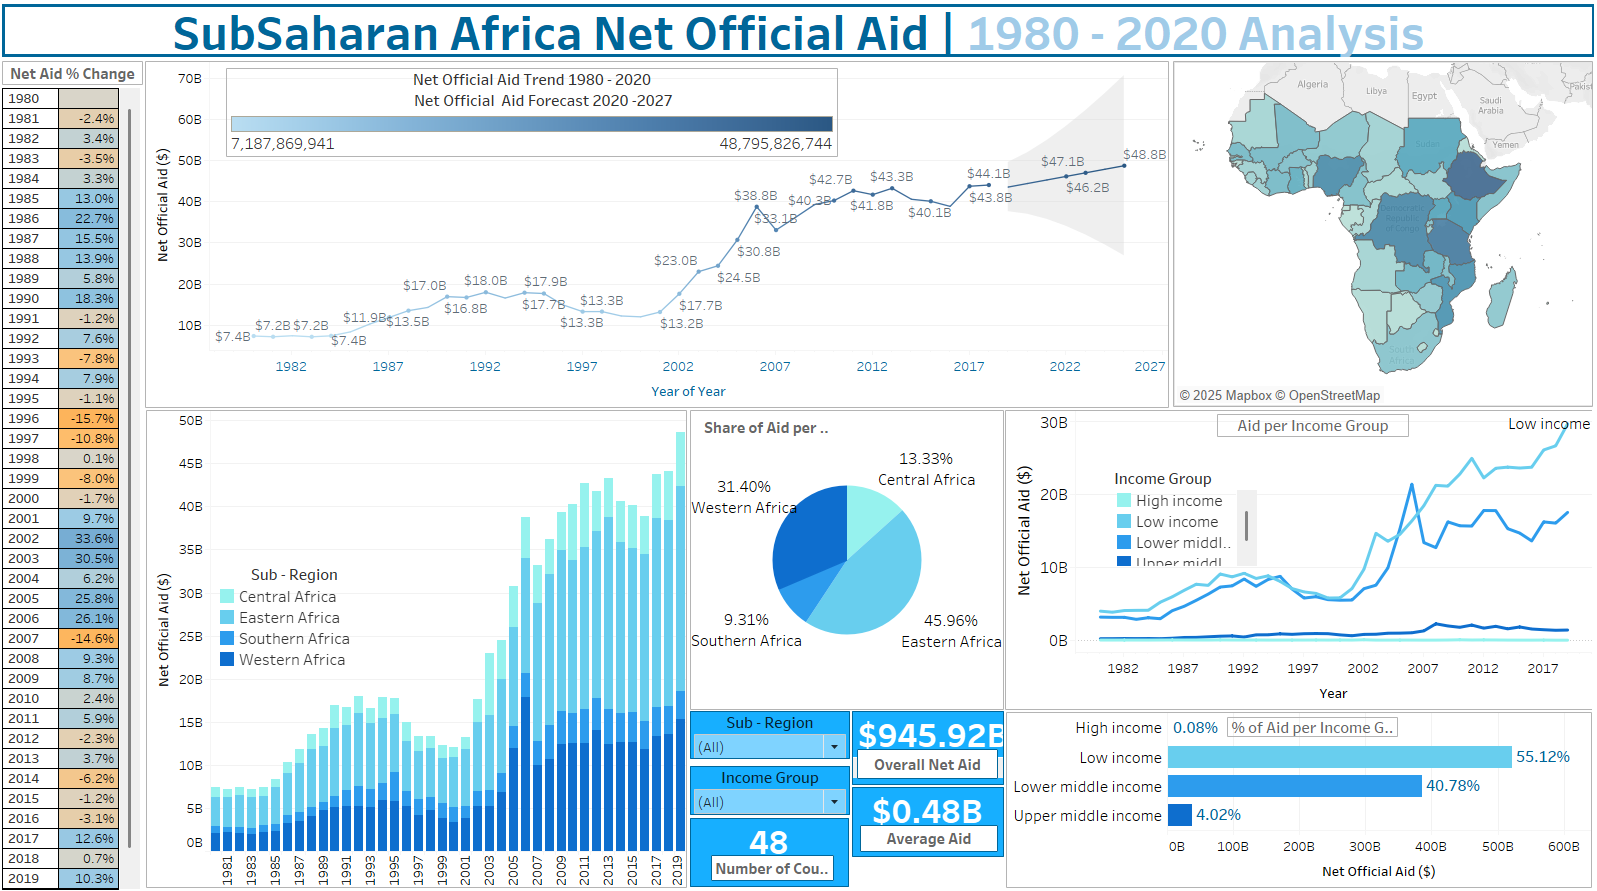

Layout of this report page (visuals, bound fields, positions):
{"tool":"tableau","page":{"name":"Aid Analysis","canvas":[1600,900],"ordinal":0},"visuals":[{"type":"text","box":[5,11,1593,53]},{"type":"image","param":"Image/SeekPng.com_map-of-africa-png_7623264.png","box":[255,16,43,39]},{"type":"text","box":[5,68,141,24]},{"type":"worksheet","title":"Net Aid Trend","mark":"Automatic","rows":["Pivot Field Values"],"cols":["Pivot Field Names"],"box":[148,68,1024,347]},{"type":"worksheet","title":"Net Aid Map","mark":"Multipolygon","box":[1176,68,421,346]},{"type":"legend","title":"Net Aid Trend","param":"[federated.1ehe8fe195bpkw174vk7w18463cl].[fVal:sum:Pivot Field Values:qk]","box":[229,75,612,89]},{"type":"worksheet","title":"Net Aid % Change","mark":"Square","rows":["Pivot Field Names"],"box":[5,95,144,802]},{"type":"worksheet","title":"Net Aid per Sub-Region","mark":"Bar","rows":["Pivot Field Values"],"cols":["Pivot Field Names"],"box":[149,417,541,478]},{"type":"worksheet","title":"Share of Aid per Region","mark":"Pie","box":[693,417,314,300]},{"type":"worksheet","title":"Net Aid per Income","mark":"Automatic","rows":["Pivot Field Values"],"cols":["Pivot Field Names"],"box":[1008,417,588,300]},{"type":"text","box":[1220,421,192,23]},{"type":"text","box":[701,423,137,22]},{"type":"legend","title":"Net Aid per Income","param":"[federated.1ehe8fe195bpkw174vk7w18463cl].[none:Income Group:nk]","box":[1117,475,145,98]},{"type":"legend","title":"Net Aid per Sub-Region","param":"[federated.1ehe8fe195bpkw174vk7w18463cl].[none:Sub - Region:nk]","box":[220,571,155,114]},{"type":"filter","title":"Net Aid per Sub-Region","param":"[federated.1ehe8fe195bpkw174vk7w18463cl].[none:Sub - Region:nk]","box":[693,718,160,48]},{"type":"worksheet","title":"Overall Aid","mark":"Automatic","box":[855,718,152,74]},{"type":"worksheet","title":"Aid per Income Group","mark":"Automatic","rows":["Income Group"],"cols":["Pivot Field Values"],"box":[1009,719,586,176]},{"type":"text","box":[1230,724,171,20]},{"type":"text","box":[860,756,141,30]},{"type":"filter","title":"Net Aid per Income","param":"[federated.1ehe8fe195bpkw174vk7w18463cl].[none:Income Group:nk]","box":[693,773,160,49]},{"type":"worksheet","title":"Avg. Aid","mark":"Automatic","box":[855,794,152,70]},{"type":"worksheet","title":"Num of Countries","mark":"Automatic","box":[693,825,159,69]},{"type":"text","box":[863,832,138,27]},{"type":"text","box":[714,862,123,26]}]}

Visuals, with their boxes in screenshot pixels (x1, y1, x2, y2), scaled from the page's 1600x900 canvas onto the 1597x891 screenshot:
text: left=5, top=11, right=1595, bottom=63
image: left=255, top=16, right=297, bottom=54
text: left=5, top=67, right=146, bottom=91
"Net Aid Trend" worksheet: left=148, top=67, right=1170, bottom=411
"Net Aid Map" worksheet (Multipolygon marks): left=1174, top=67, right=1594, bottom=410
"Net Aid Trend" legend: left=229, top=74, right=839, bottom=162
"Net Aid % Change" worksheet (Square marks): left=5, top=94, right=149, bottom=888
"Net Aid per Sub-Region" worksheet (Bar marks): left=149, top=413, right=689, bottom=886
"Share of Aid per Region" worksheet (Pie marks): left=692, top=413, right=1005, bottom=710
"Net Aid per Income" worksheet: left=1006, top=413, right=1593, bottom=710
text: left=1218, top=417, right=1409, bottom=440
text: left=700, top=419, right=836, bottom=441
"Net Aid per Income" legend: left=1115, top=470, right=1260, bottom=567
"Net Aid per Sub-Region" legend: left=220, top=565, right=374, bottom=678
"Net Aid per Sub-Region" filter: left=692, top=711, right=851, bottom=758
"Overall Aid" worksheet: left=853, top=711, right=1005, bottom=784
"Aid per Income Group" worksheet: left=1007, top=712, right=1592, bottom=886
text: left=1228, top=717, right=1398, bottom=737
text: left=858, top=748, right=999, bottom=778
"Net Aid per Income" filter: left=692, top=765, right=851, bottom=814
"Avg. Aid" worksheet: left=853, top=786, right=1005, bottom=855
"Num of Countries" worksheet: left=692, top=817, right=850, bottom=885
text: left=861, top=824, right=999, bottom=850
text: left=713, top=853, right=835, bottom=879
